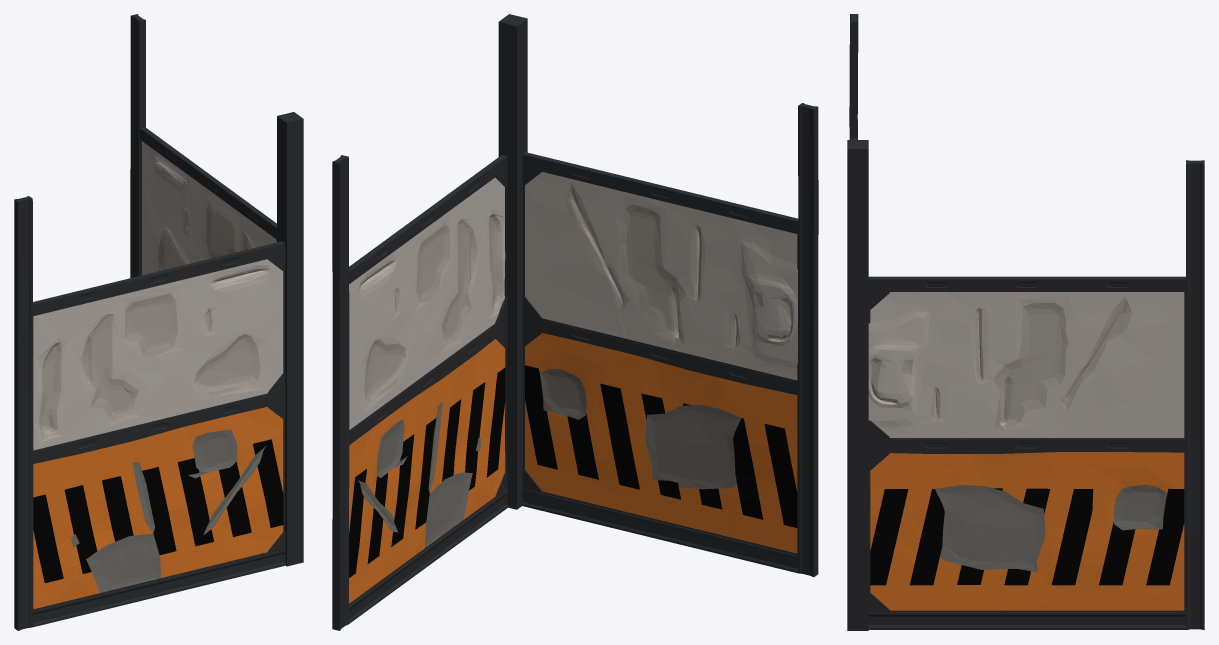
File: SM_Wall_Angle_Broken_05.gltf
3 renders of one model, left to right at view 1: azimuth 30°, elevation 25°; view 2: azimuth 150°, elevation 25°; view 3: azimuth 270°, elevation 25°, orthographic. The views are drawn at different scales.
Parts seen in each view (by area): view 1: SM_Wall_Angle_Broken_05; view 2: SM_Wall_Angle_Broken_05; view 3: SM_Wall_Angle_Broken_05.
Part boxes in pixels (x1=…): SM_Wall_Angle_Broken_05: x1=14, y1=14, x2=303, y2=630; SM_Wall_Angle_Broken_05: x1=332, y1=14, x2=818, y2=630; SM_Wall_Angle_Broken_05: x1=847, y1=14, x2=1204, y2=630.
Bounding box in the file's own units: 2.01 × 3 × 2.01.
